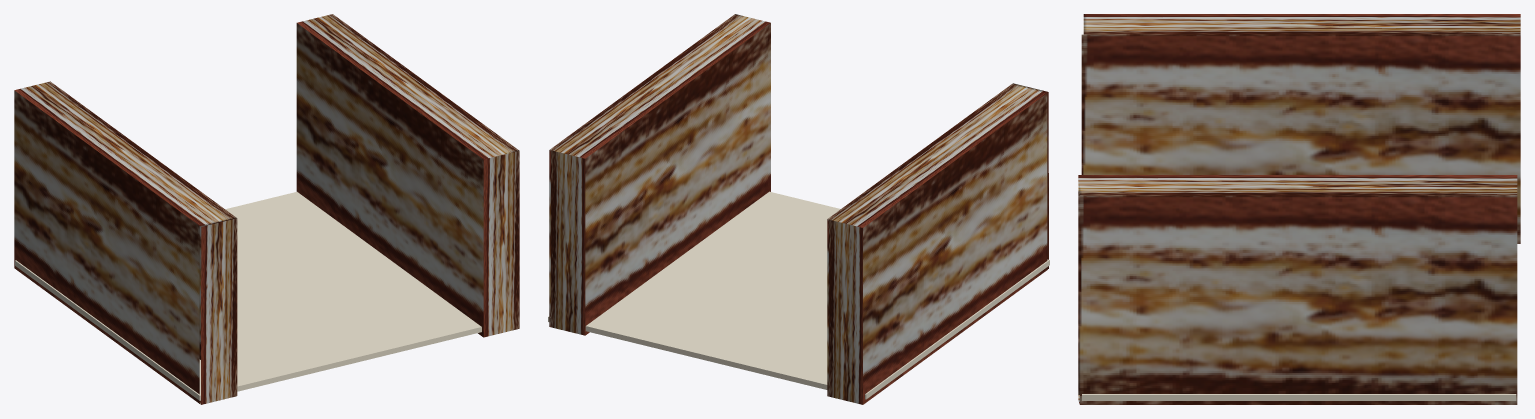
The model's file is Wall00.fbx.
The picture shows the model from 3 angles, left to right: view 1: azimuth 30°, elevation 25°; view 2: azimuth 150°, elevation 25°; view 3: azimuth 270°, elevation 25°; orthographic projection. The views are drawn at different scales.
Parts seen in each view (by area): view 1: pasted__pCube2, pCube2, pCube1; view 2: pasted__pCube2, pCube2, pCube1; view 3: pCube2, pasted__pCube2, pCube1.
Part boxes in pixels (x1,y1,x2,y2): pasted__pCube2: [14, 81, 237, 404]; pCube2: [296, 14, 519, 337]; pCube1: [15, 192, 481, 400]; pasted__pCube2: [827, 83, 1048, 404]; pCube2: [549, 14, 770, 335]; pCube1: [548, 191, 1049, 399]; pCube2: [1078, 175, 1517, 404]; pasted__pCube2: [1081, 14, 1520, 243]; pCube1: [1082, 394, 1516, 400].
Size of the model in its own units: 114 by 60.56 by 116.
Materials: 2 (1 with a texture image).
